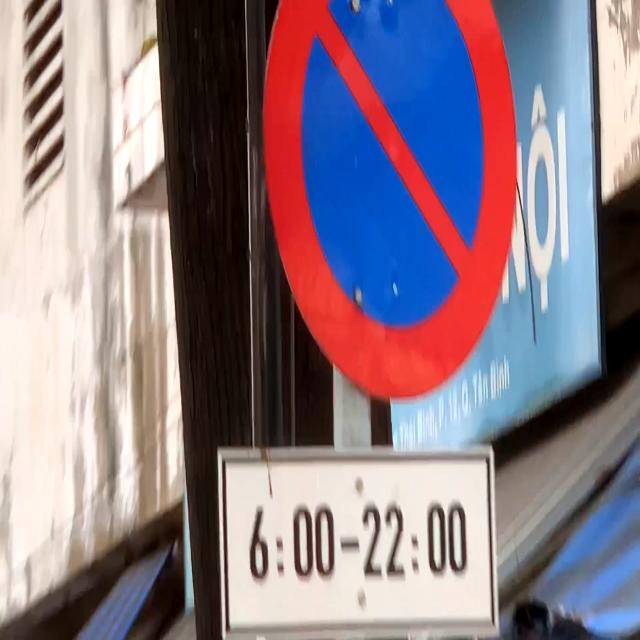P.131a: (262, 0, 517, 401)
